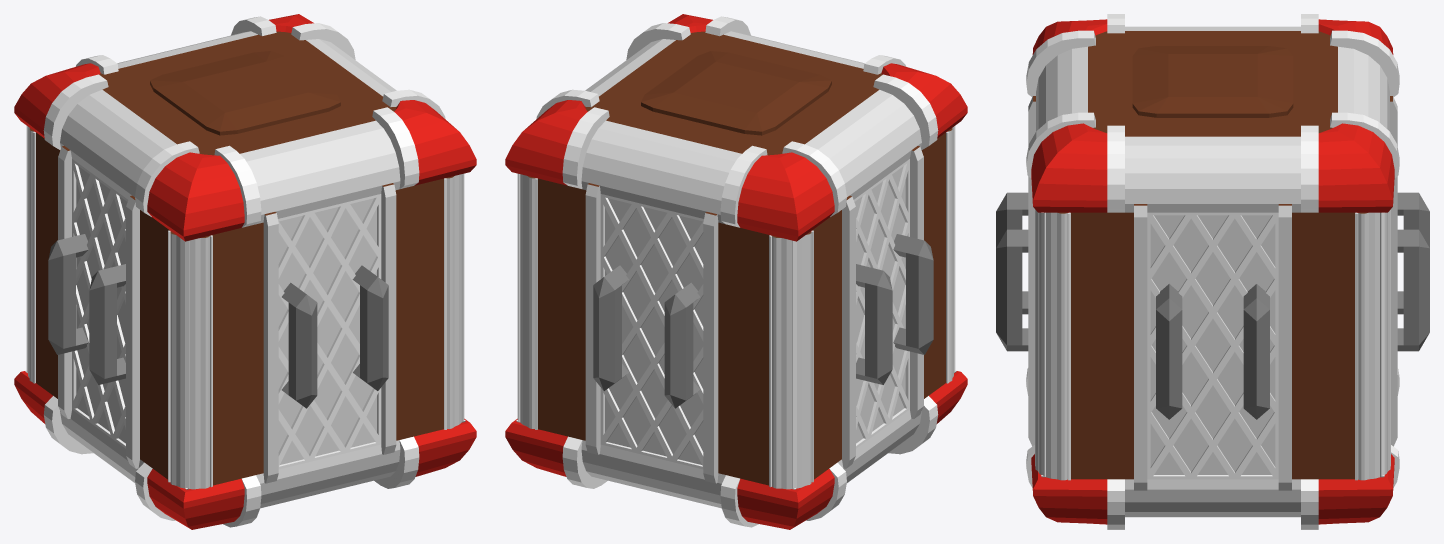
File: FinalBox.fbx
3 views of the same model, side by side, from view 1: azimuth 30°, elevation 25°; view 2: azimuth 150°, elevation 25°; view 3: azimuth 270°, elevation 25° (orthographic). The views are drawn at different scales.
Visible parts, largest first — view 1: Box; view 2: Box; view 3: Box.
Part boxes in pixels (left/top/right/bottom): Box: left=14, top=14, right=476, bottom=529; Box: left=505, top=14, right=967, bottom=529; Box: left=996, top=14, right=1429, bottom=529.
Size of the model in its own units: 200 by 200 by 200.
